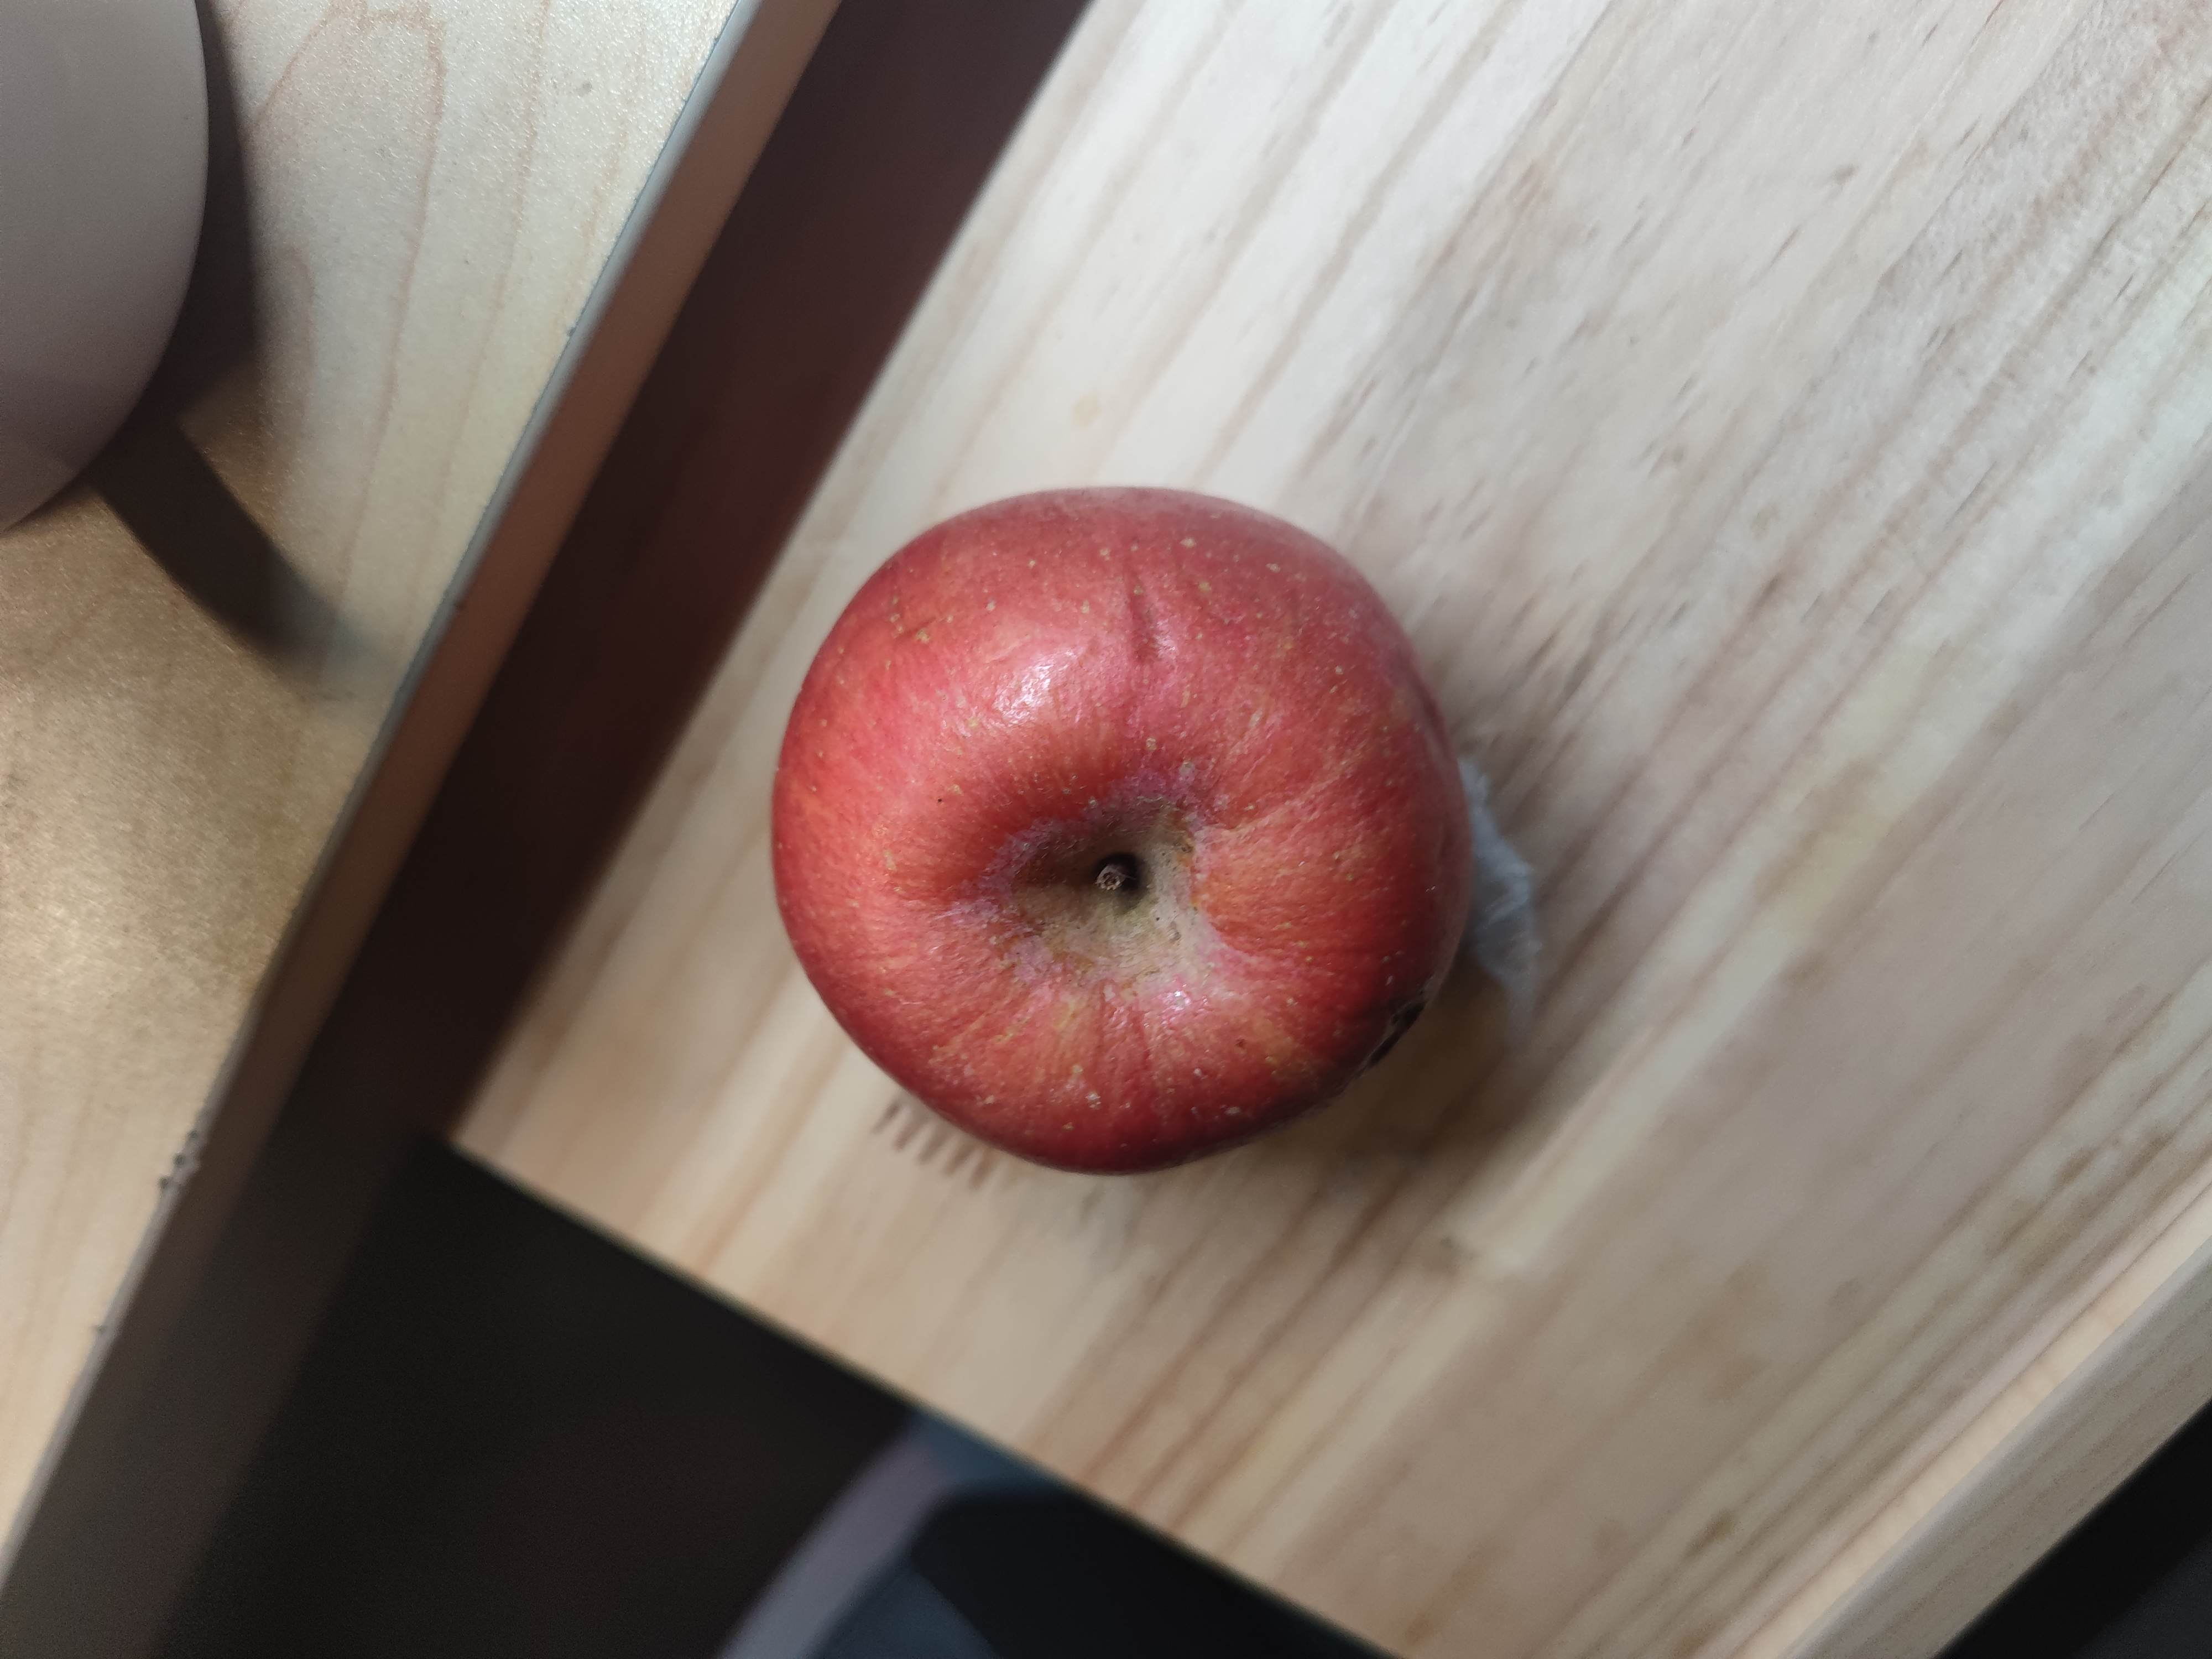apple: (751, 481, 1484, 1175)
